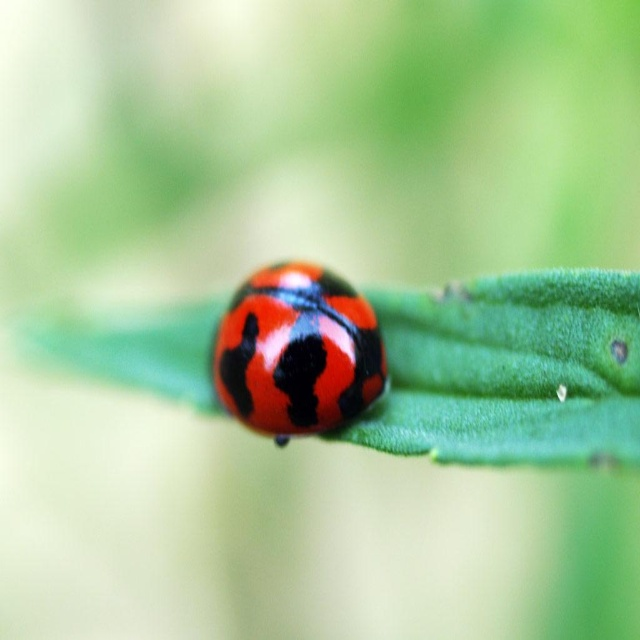Ladybug: (208, 262, 396, 449)
